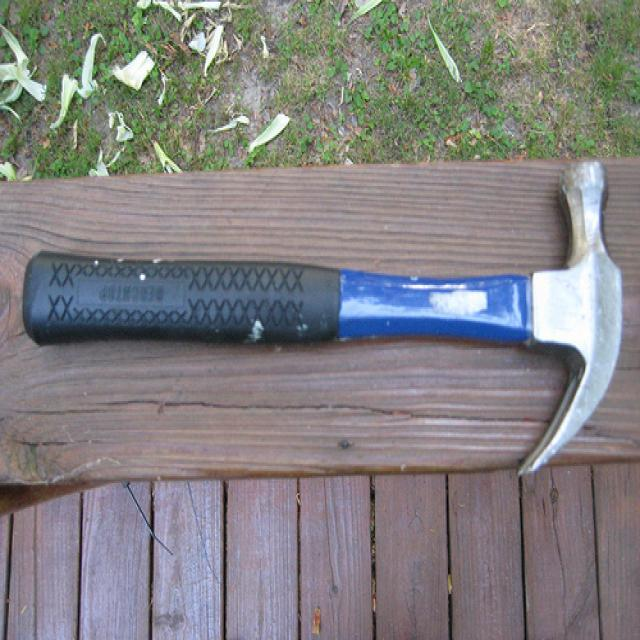hammer: (14, 148, 633, 486)
